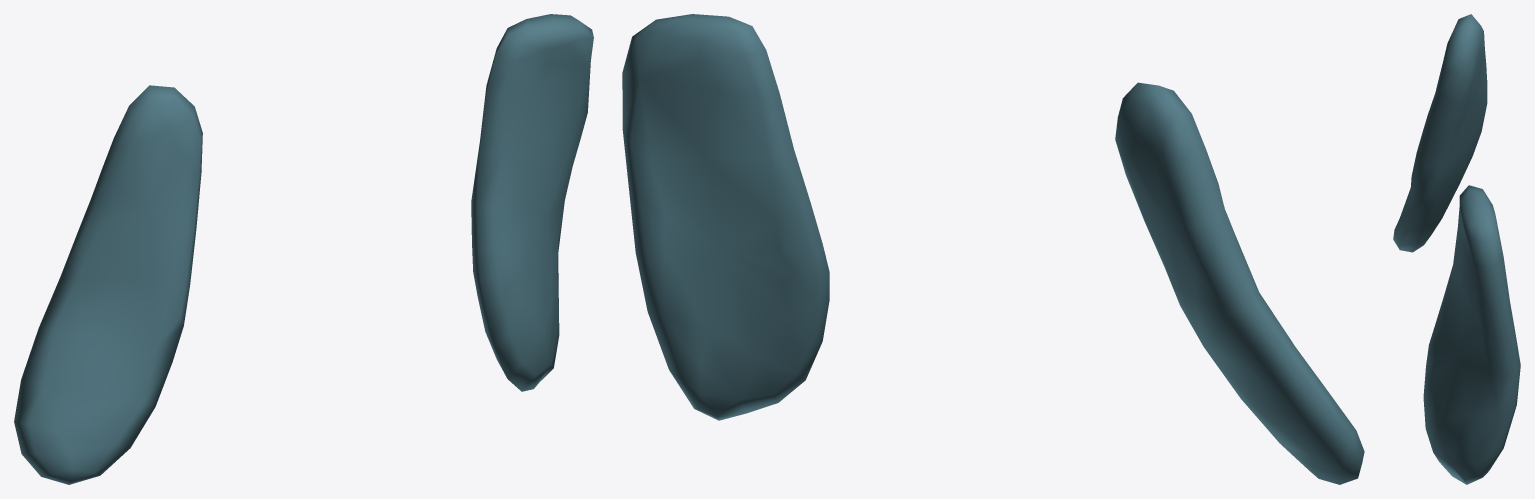
Rendered from Flexor_digitorum_superficialis-middle_phalanx_of_5th_finger_Gen.glb.
3 renders of one model, left to right at view 1: azimuth 30°, elevation 25°; view 2: azimuth 150°, elevation 25°; view 3: azimuth 270°, elevation 25°, orthographic. The views are drawn at different scales.
Parts seen in each view (by area): view 1: Flexor_digitorum_superficialis-middle_phalanx_of_5th_finger_; view 2: Flexor_digitorum_superficialis-middle_phalanx_of_5th_finger_; view 3: Flexor_digitorum_superficialis-middle_phalanx_of_5th_finger_.
Boxes of the visible parts, x1,y1,x2,y2 form: Flexor_digitorum_superficialis-middle_phalanx_of_5th_finger_: (14, 14, 593, 484); Flexor_digitorum_superficialis-middle_phalanx_of_5th_finger_: (622, 14, 1364, 484); Flexor_digitorum_superficialis-middle_phalanx_of_5th_finger_: (1393, 14, 1520, 484).
Size of the model in its own units: 0.00782 by 0.00479 by 0.00175.
